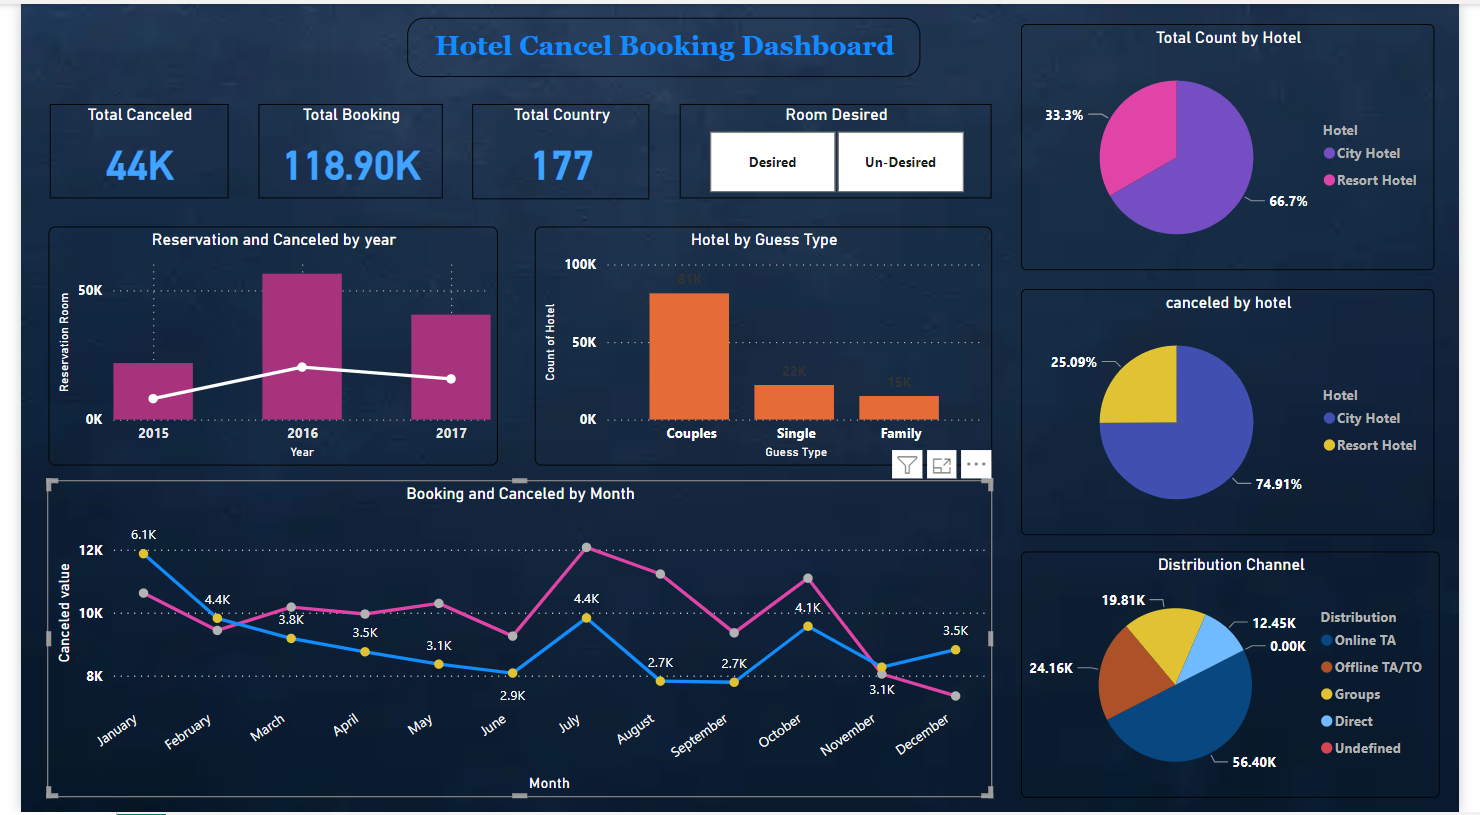

This screenshot's page, from the dashboard's own definition file:
{"tool":"powerbi","page":{"name":"Hotel Cancel Booking","canvas":[1280,720],"ordinal":0},"visuals":[{"type":"card","title":"Total Canceled","fields":{"Values":["Sum(hotel_bookings.canceled)"]},"box":[25.4,89.5,158.9,84.3],"z":0},{"type":"card","title":"Total Booking","fields":{"Values":["CountNonNull(hotel_bookings.hotel)"]},"box":[211.5,89.2,163.8,84.3],"z":1000},{"type":"lineChart","title":"Booking and Canceled by Month","fields":{"Category":["hotel_bookings.reservation_status_date.Variation.Date Hierarchy.Month"],"Y":["CountNonNull(hotel_bookings.canceled)"],"Y2":["Sum(hotel_bookings.canceled)1"]},"box":[23.2,424.2,841,282.4],"z":2000},{"type":"card","title":"Total Country","fields":{"Values":["Count(hotel_bookings.country)"]},"box":[401.6,89.2,158,84.4],"z":3000},{"type":"lineStackedColumnComboChart","title":"Reservation and Canceled by year","fields":{"Category":["hotel_bookings.year"],"Y":["CountNonNull(hotel_bookings.reservation_status)"],"Y2":["Sum(hotel_bookings.canceled)"]},"box":[24.4,198.2,399.7,212.7],"z":4000},{"type":"pieChart","title":"canceled by hotel","fields":{"Category":["hotel_bookings.hotel"],"Y":["Sum(hotel_bookings.canceled)"]},"box":[889.9,254.3,367.9,218.8],"z":5000},{"type":"pieChart","title":"Total Count by Hotel","fields":{"Category":["hotel_bookings.hotel"],"Y":["CountNonNull(hotel_bookings.canceled)"]},"box":[889.9,18.3,367.9,218.8],"z":6000},{"type":"columnChart","title":"Hotel by Guess Type","fields":{"Category":["hotel_bookings.guess_type"],"Y":["CountNonNull(hotel_bookings.hotel)"]},"box":[457.2,198.2,407.1,212.7],"z":7000},{"type":"slicer","title":"Room Desired","fields":{"Values":["hotel_bookings.room_desired"]},"box":[586.8,89.5,277.5,84.3],"z":8000},{"type":"pieChart","title":"Distribution Channel","fields":{"Category":["hotel_bookings.distribution_channel"],"Y":["CountNonNull(hotel_bookings.reservation_status)"]},"box":[889.9,487.7,372.8,218.8],"z":9000},{"type":"textbox","box":[343.7,12.1,457.1,53.1],"z":10000}]}

Visuals, with their boxes in screenshot pixels (x1, y1, x2, y2), scaled from the page's 1280x720 canvas onto the 1480x815 screenshot:
"Total Canceled" card: (left=29, top=101, right=213, bottom=197)
"Total Booking" card: (left=245, top=101, right=434, bottom=196)
"Booking and Canceled by Month" lineChart: (left=27, top=480, right=999, bottom=800)
"Total Country" card: (left=464, top=101, right=647, bottom=197)
"Reservation and Canceled by year" lineStackedColumnComboChart: (left=28, top=224, right=490, bottom=465)
"canceled by hotel" pieChart: (left=1029, top=288, right=1454, bottom=536)
"Total Count by Hotel" pieChart: (left=1029, top=21, right=1454, bottom=268)
"Hotel by Guess Type" columnChart: (left=529, top=224, right=999, bottom=465)
"Room Desired" slicer: (left=678, top=101, right=999, bottom=197)
"Distribution Channel" pieChart: (left=1029, top=552, right=1460, bottom=800)
textbox: (left=397, top=14, right=926, bottom=74)
